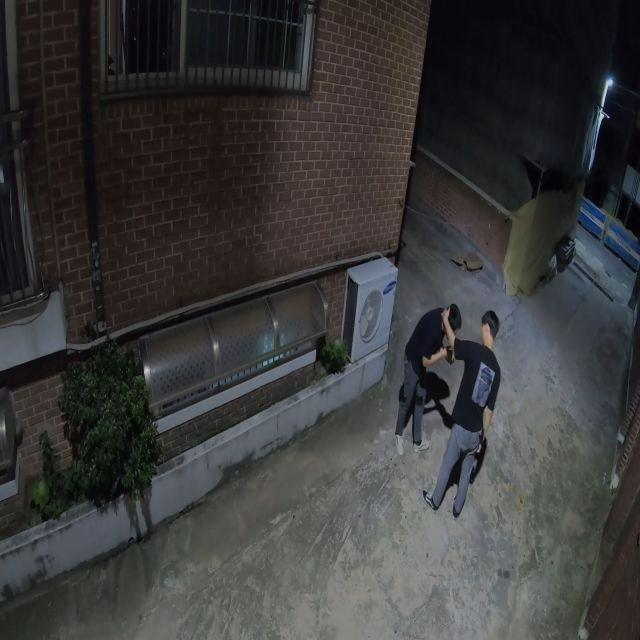fight: (396, 298, 505, 519)
